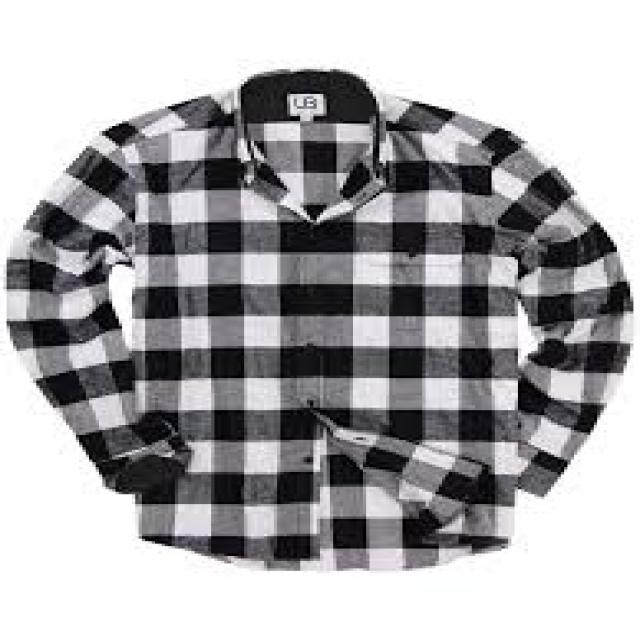plaid: (12, 61, 633, 590)
